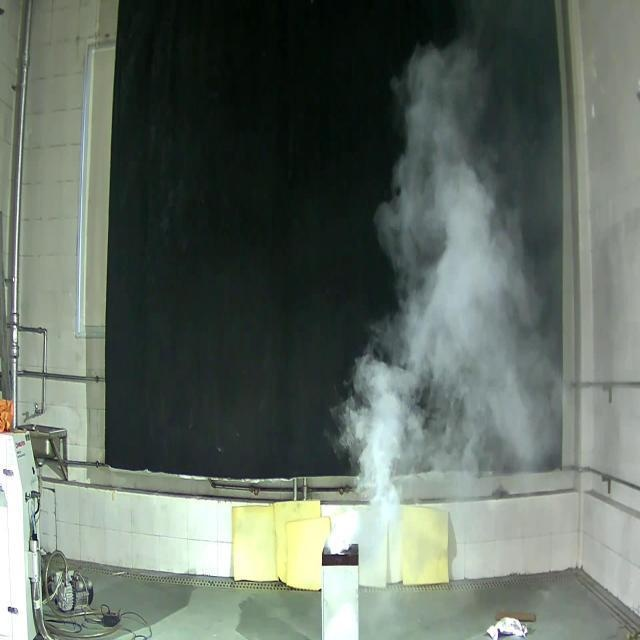smoke: (363, 74, 546, 481)
